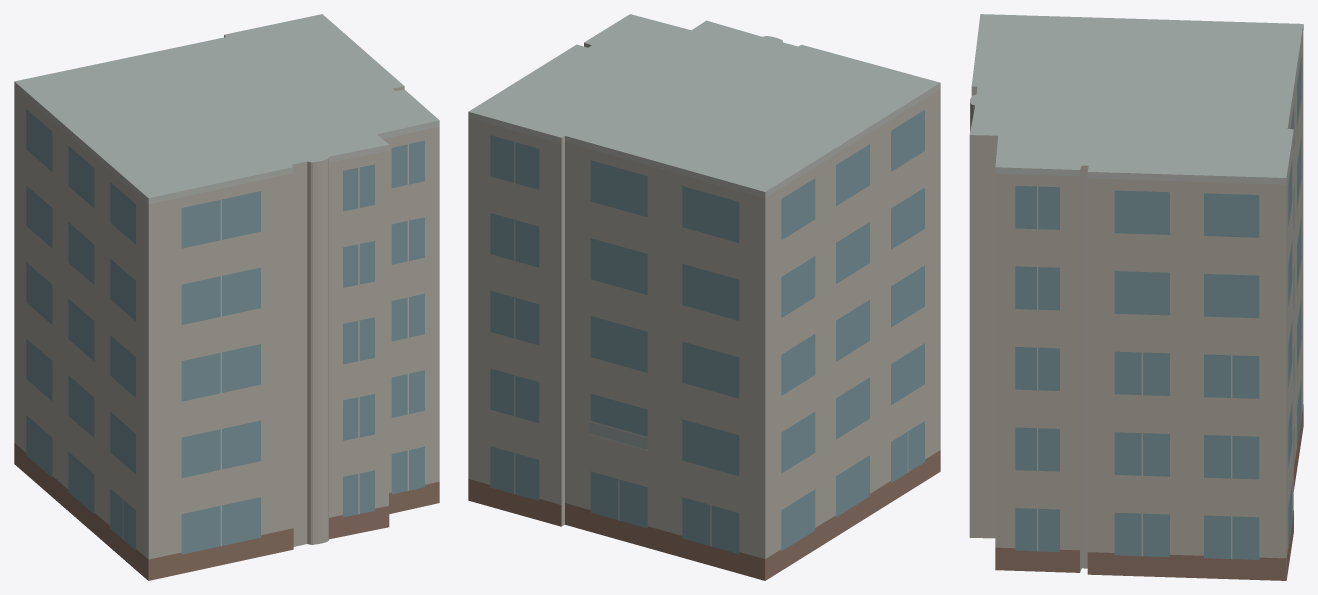
File: survey-upis-32663425.glb
3 views of the same model, side by side, from view 1: azimuth 30°, elevation 25°; view 2: azimuth 150°, elevation 25°; view 3: azimuth 270°, elevation 25° (orthographic). The views are drawn at different scales.
Parts seen in each view (by area): view 1: survey-upis-32663425.tmp; view 2: survey-upis-32663425.tmp; view 3: survey-upis-32663425.tmp.
Boxes of the visible parts, <box> form: survey-upis-32663425.tmp: <box>14,14,439,580</box>; survey-upis-32663425.tmp: <box>468,14,940,580</box>; survey-upis-32663425.tmp: <box>969,14,1303,580</box>.
Size of the model in its own units: 13.33 by 15.25 by 11.46.
